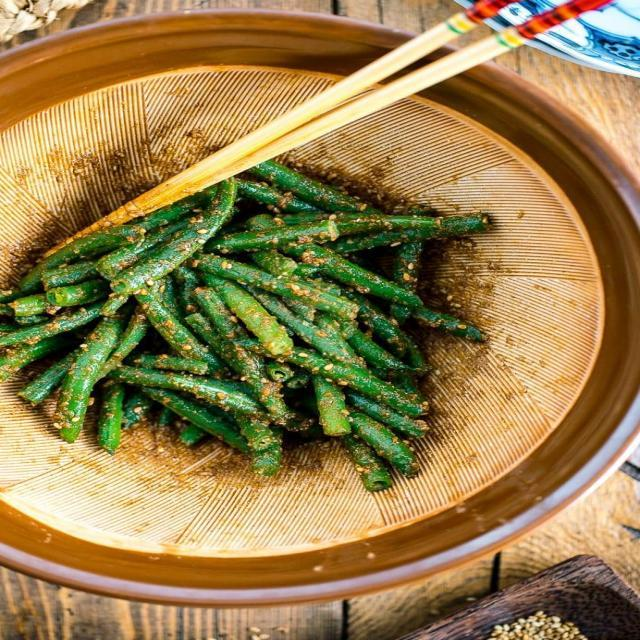Beans: (0, 135, 500, 496)
